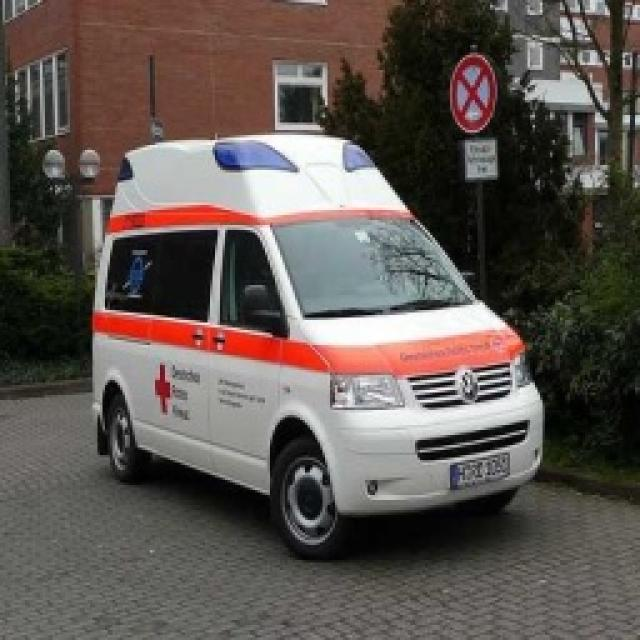emergency-vehicle: (91, 133, 543, 564)
